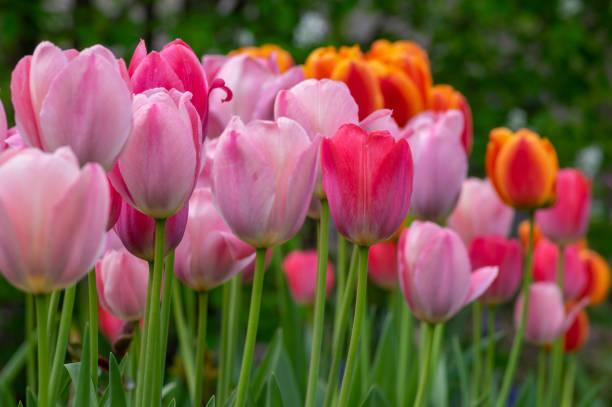tulip: (0, 34, 609, 405)
